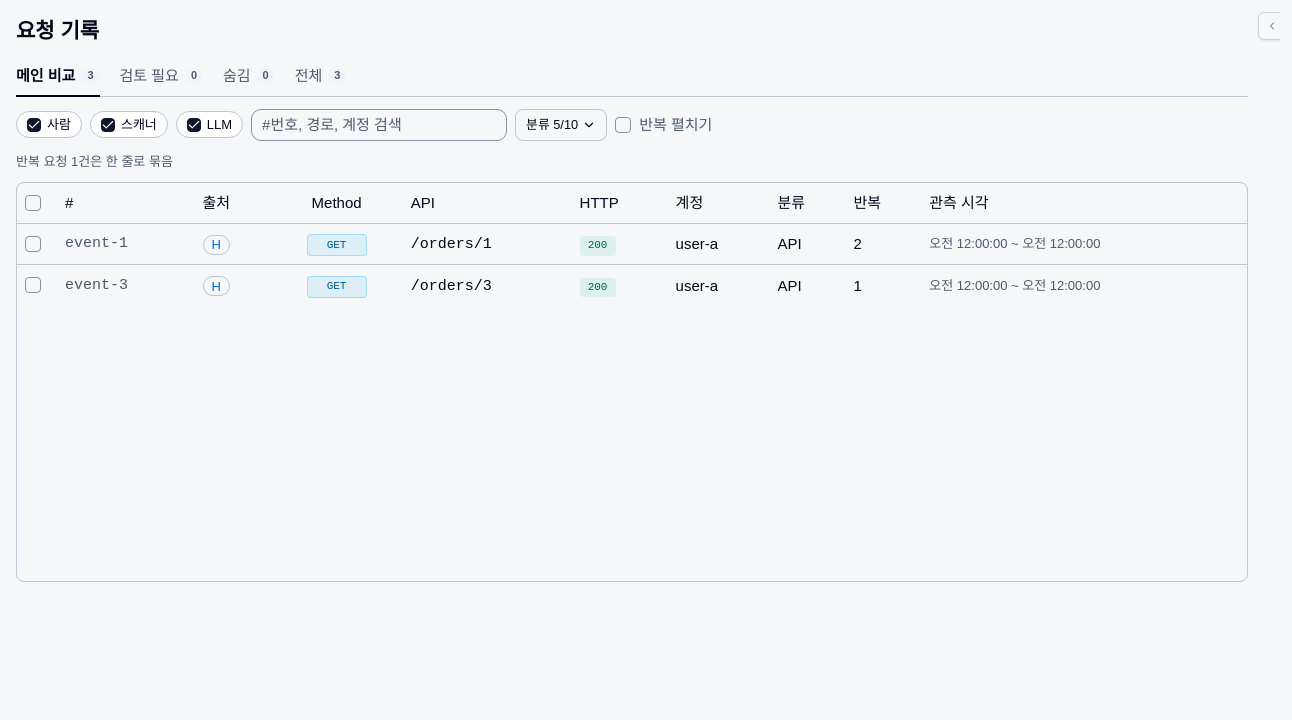
Test case: EvidencePage › collapses stable repeat clusters with first/last observations and selects the exact visible row
Expected: the text "event-1" is shown, [57,223,194,265]
Expected: the text "event-2" is not shown
Step 1. Click the checkbox named "반복 요청 기록 펼치기" → (623, 125), box [615,117,631,133]
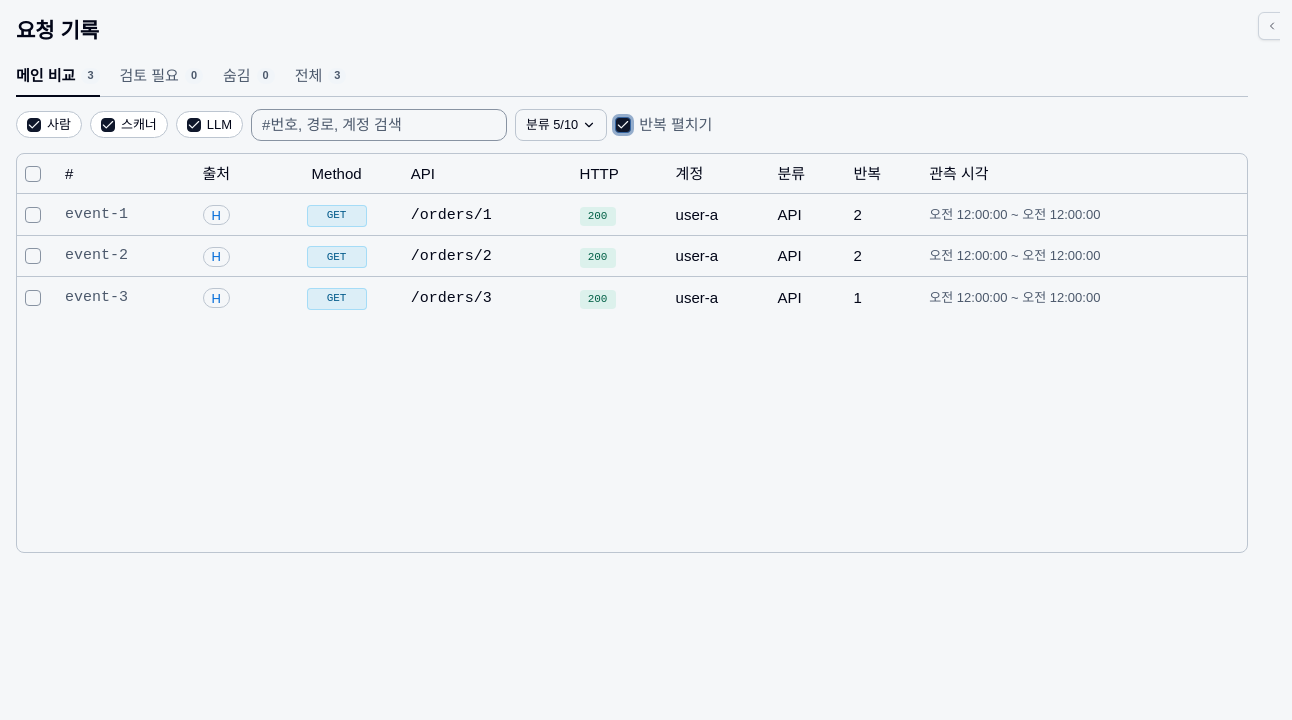
Expected: the text "event-2" is shown, [57,235,194,277]
Step 2. Click the button with aria-label "상세 보기" → (451, 257), box [411,246,492,268]
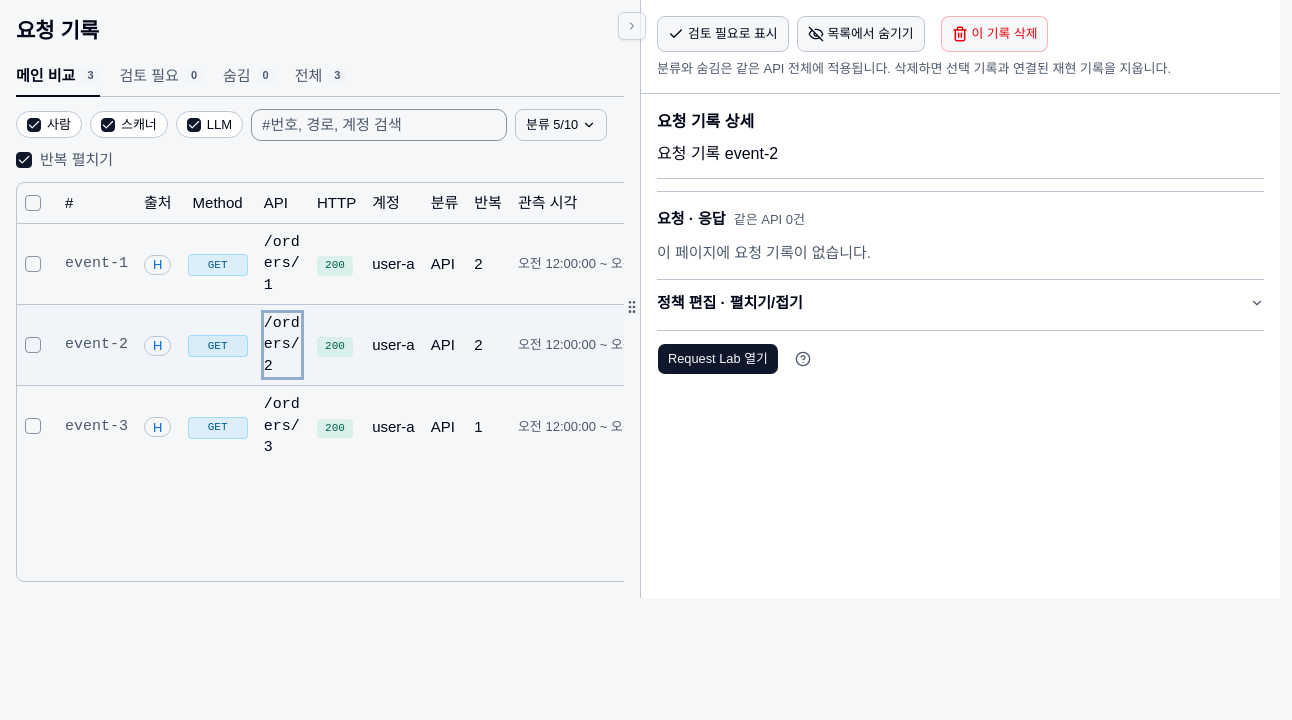
Expected: the number of buttons "/orders/2" is 1, [264,313,301,377]
Expected: the text "요청 기록 event-2" is shown, [657,145,778,162]
